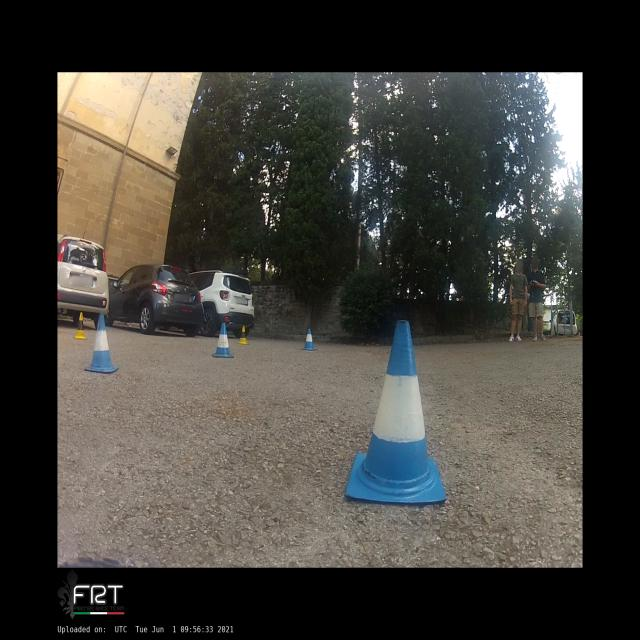blue_cone: (344, 320, 446, 504), (84, 313, 119, 373), (212, 322, 234, 358), (300, 329, 318, 350)
yellow_cone: (73, 312, 88, 340), (237, 326, 249, 344)
